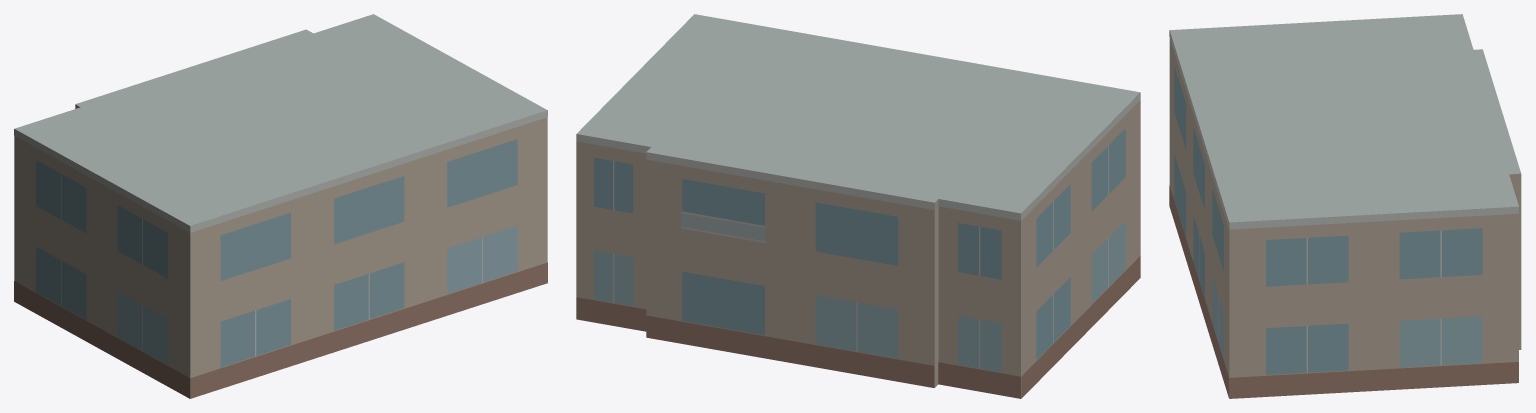
The model's file is survey-upis-33007049.glb.
3 renders of one model, left to right at view 1: azimuth 30°, elevation 25°; view 2: azimuth 150°, elevation 25°; view 3: azimuth 270°, elevation 25°, orthographic. The views are drawn at different scales.
Visible parts, largest first — view 1: survey-upis-33007049.tmp; view 2: survey-upis-33007049.tmp; view 3: survey-upis-33007049.tmp.
Boxes of the visible parts, box(x1,y1,x2,y2) form: survey-upis-33007049.tmp: box(14, 14, 547, 398); survey-upis-33007049.tmp: box(576, 14, 1140, 398); survey-upis-33007049.tmp: box(1169, 14, 1521, 398).
Bounding box in the file's own units: 15.48 × 6.1 × 11.04.
